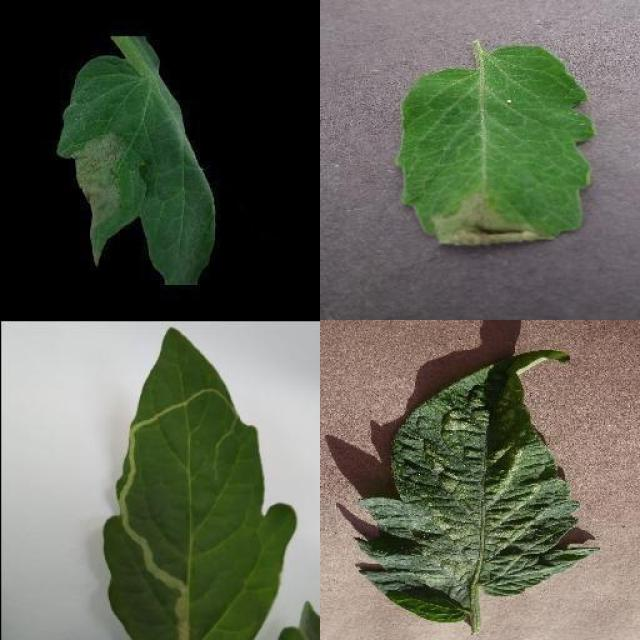Late Blight: (395, 46, 595, 252), (56, 51, 216, 286)
